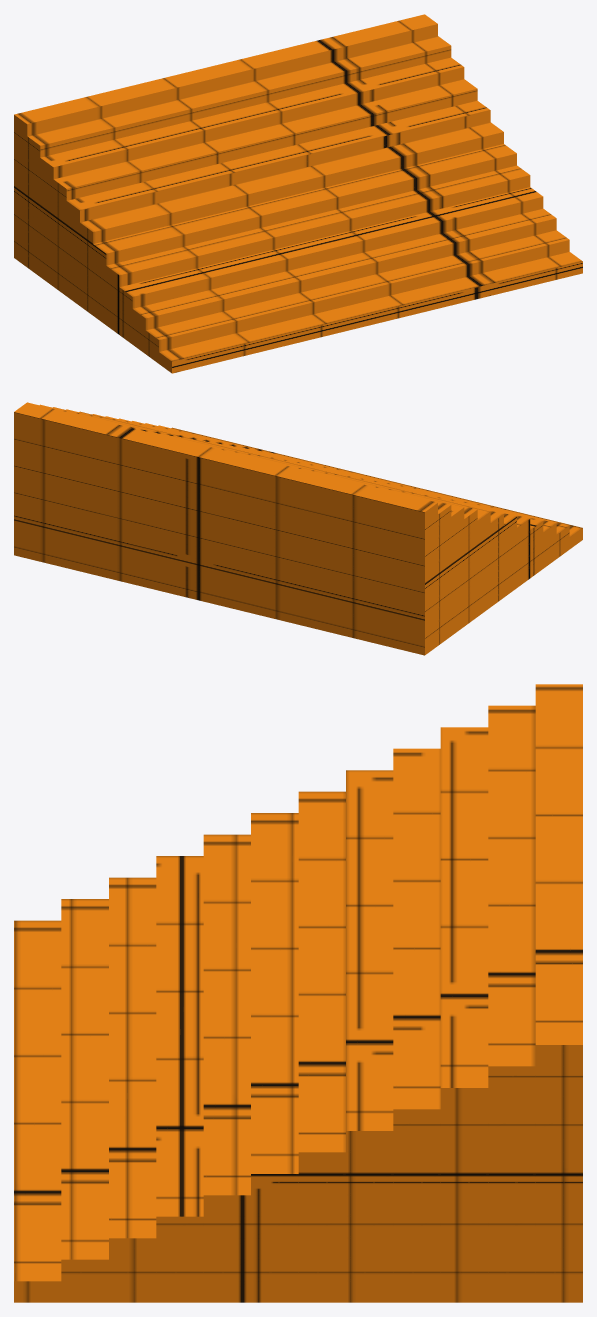
Rendered from stairs3x1x2.fbx.
3 views of the same model, one above another, from view 1: azimuth 30°, elevation 25°; view 2: azimuth 150°, elevation 25°; view 3: azimuth 270°, elevation 25° (orthographic). The views are drawn at different scales.
Visible parts, largest first — view 1: stairs3x1x2; view 2: stairs3x1x2; view 3: stairs3x1x2.
Boxes of the visible parts, x1=… form: stairs3x1x2: x1=14, y1=14, x2=582, y2=373; stairs3x1x2: x1=14, y1=402, x2=582, y2=655; stairs3x1x2: x1=14, y1=684, x2=582, y2=1302.
Size of the model in its own units: 300 by 100 by 200.
1 material, 1 textured.
